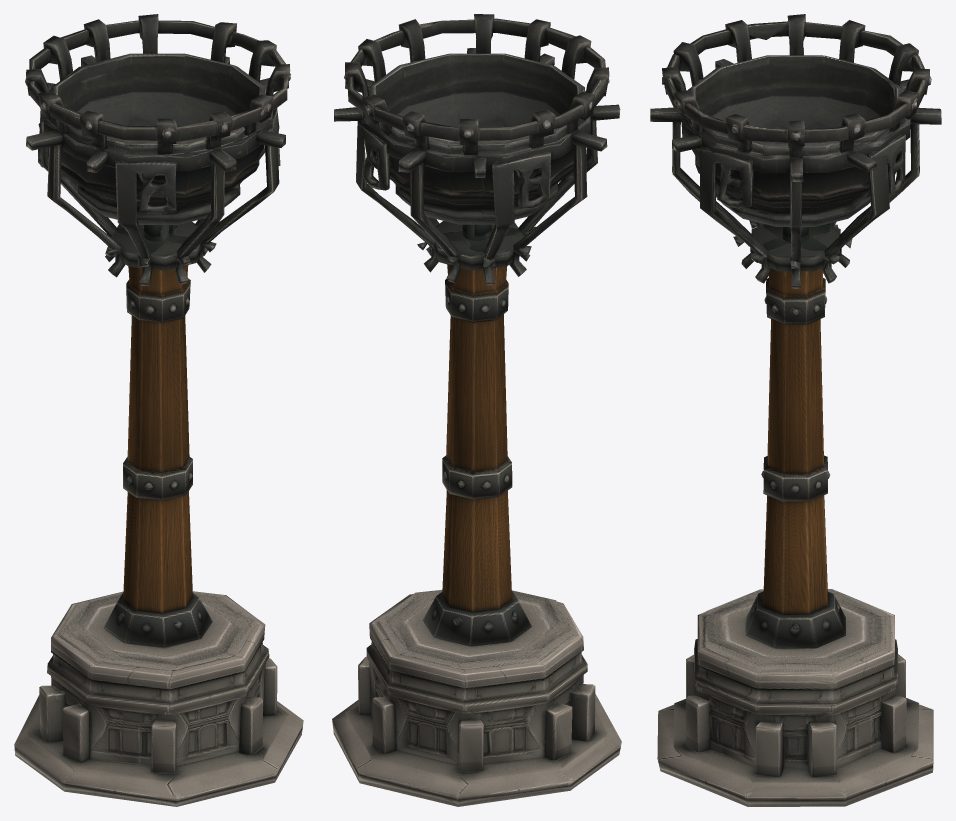
The model's file is o05_demir_mangal_nobet_ocagi.glb.
3 views of the same model, side by side, from view 1: azimuth 30°, elevation 25°; view 2: azimuth 150°, elevation 25°; view 3: azimuth 270°, elevation 25° (orthographic).
Size of the model in its own units: 0.3965 by 1 by 0.3896.
1 material, 1 textured.
